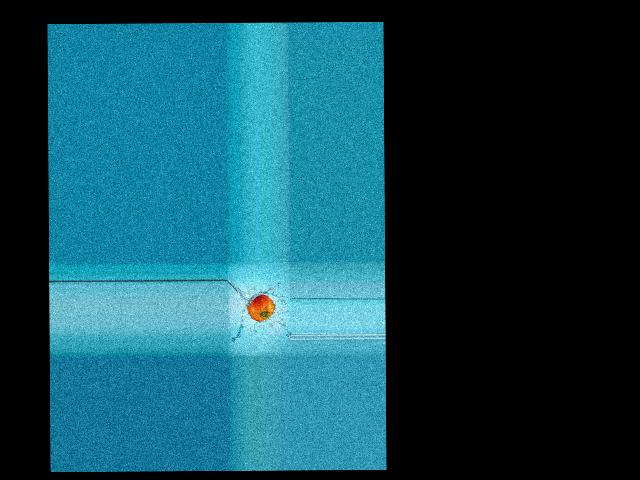tomato: (247, 294, 275, 321)
